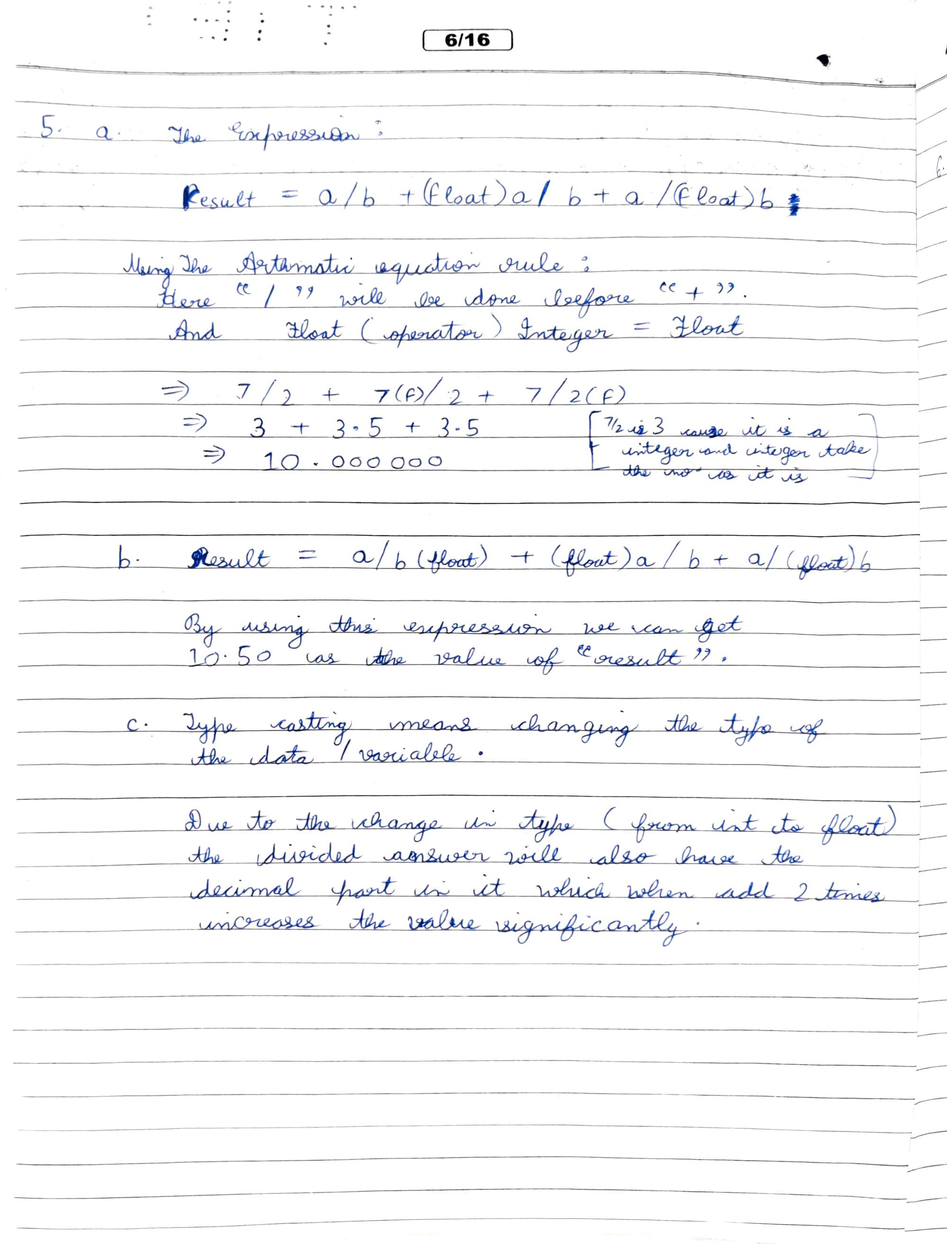cuttings: (785, 193, 802, 218)
